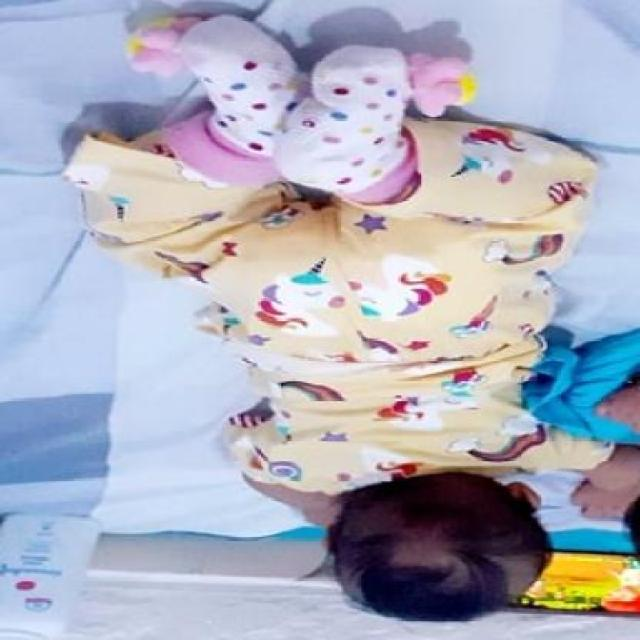baby: (78, 27, 594, 627)
